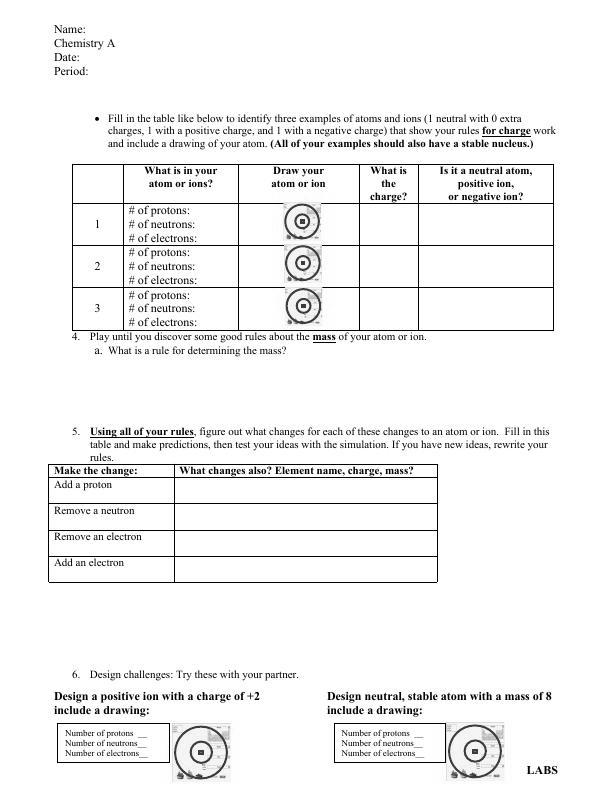table: (68, 162, 560, 331), (45, 462, 443, 589)
text: (69, 421, 552, 463), (105, 109, 558, 152), (71, 330, 434, 358), (323, 689, 557, 718), (50, 690, 275, 718), (51, 21, 123, 80), (69, 668, 306, 683), (337, 726, 431, 760), (57, 726, 152, 759)
